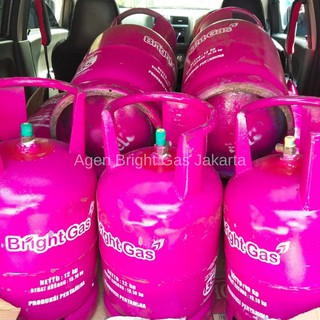bright_gas: (96, 91, 224, 320), (1, 76, 99, 319), (225, 94, 320, 320), (180, 6, 292, 157), (67, 8, 179, 152)
